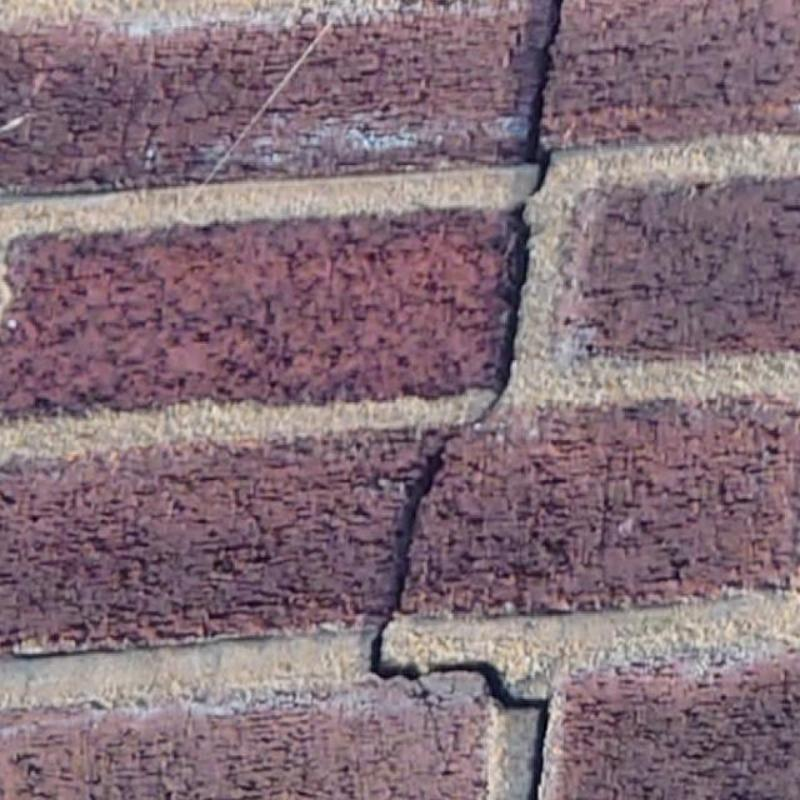pothole: (370, 436, 548, 799), (479, 202, 530, 418), (525, 0, 562, 193)
